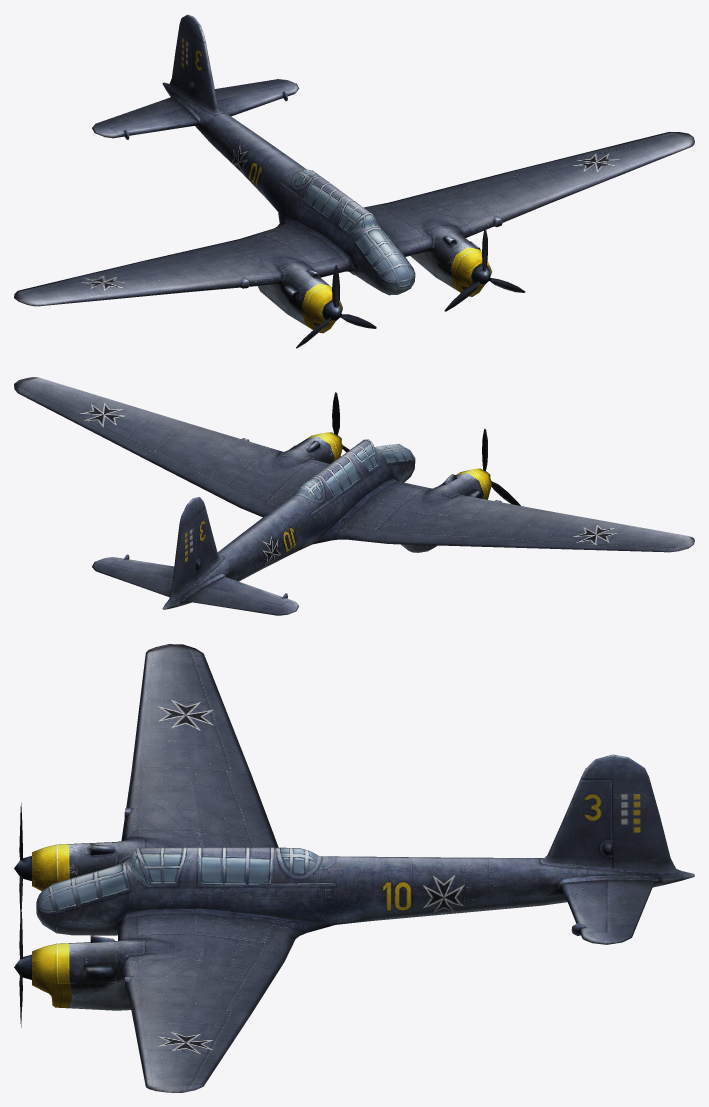
3 views of the same model, one above another, from view 1: azimuth 30°, elevation 25°; view 2: azimuth 150°, elevation 25°; view 3: azimuth 270°, elevation 25° (orthographic). The views are drawn at different scales.
Visible parts, largest first — view 1: d_fw57_02; view 2: d_fw57_02; view 3: d_fw57_02.
Boxes of the visible parts, <box> form: d_fw57_02: <box>14,14,694,348</box>; d_fw57_02: <box>14,377,694,615</box>; d_fw57_02: <box>14,644,694,1092</box>.
Size of the model in its own units: 24.97 by 16.02 by 5.3.
